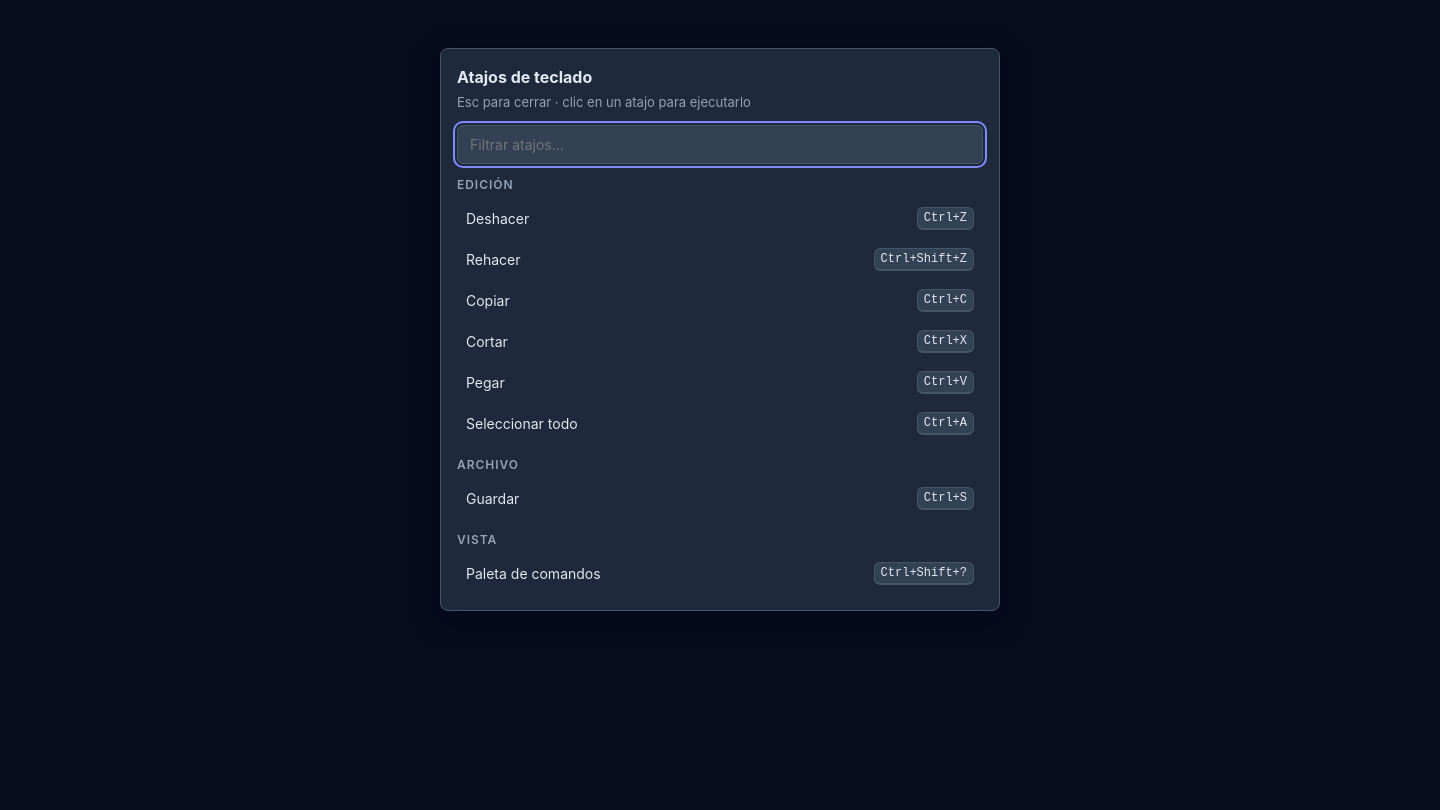
Test: ShortcutPalette › filtra por texto
Type "guardar" into the search field labelled "Filtrar atajos".
click(720, 144); type("guardar")  # box x1=457 y1=124 x2=983 y2=164
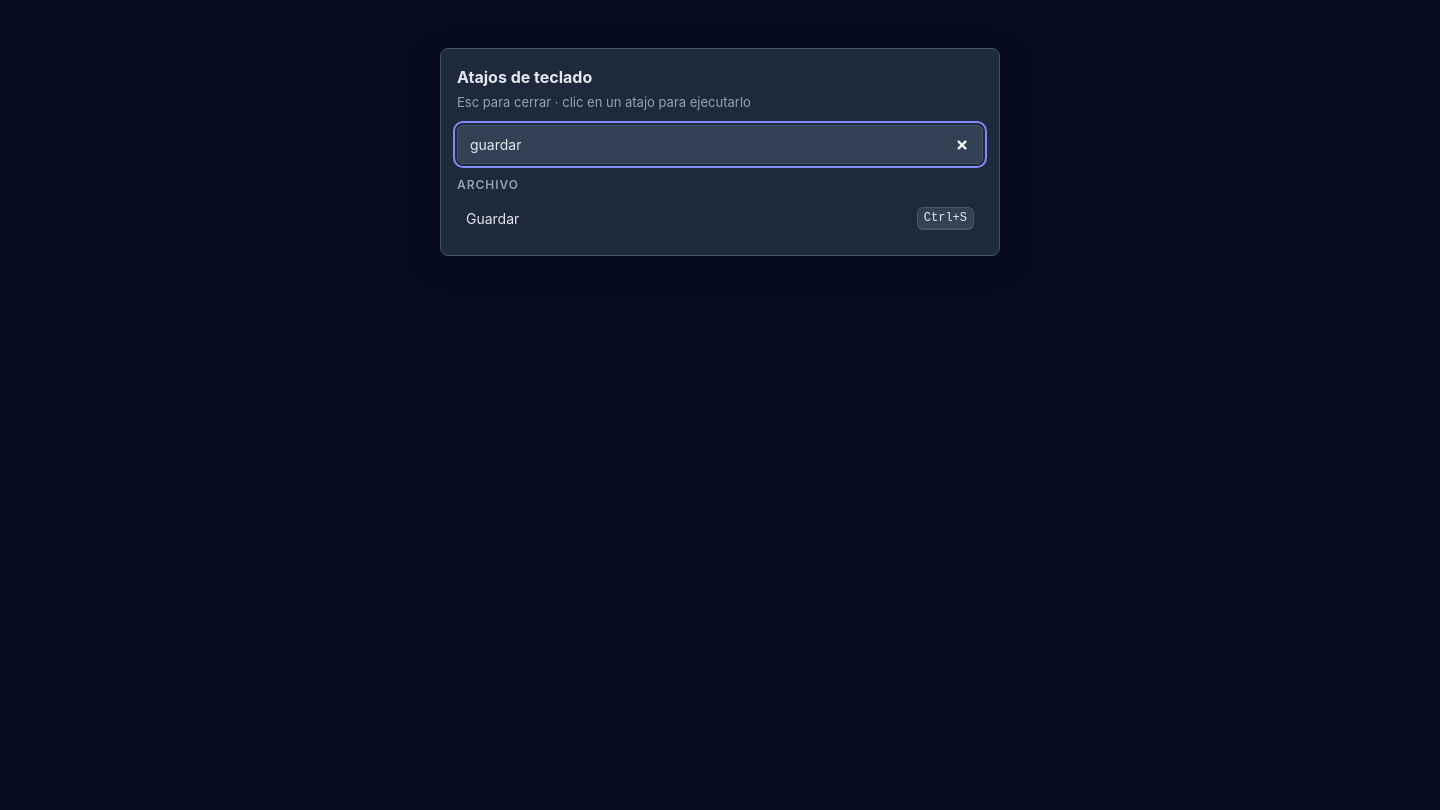
Expected: the text "Guardar" is shown, x1=466 y1=210 x2=519 y2=226
Now the button "Deshacer" is gone
